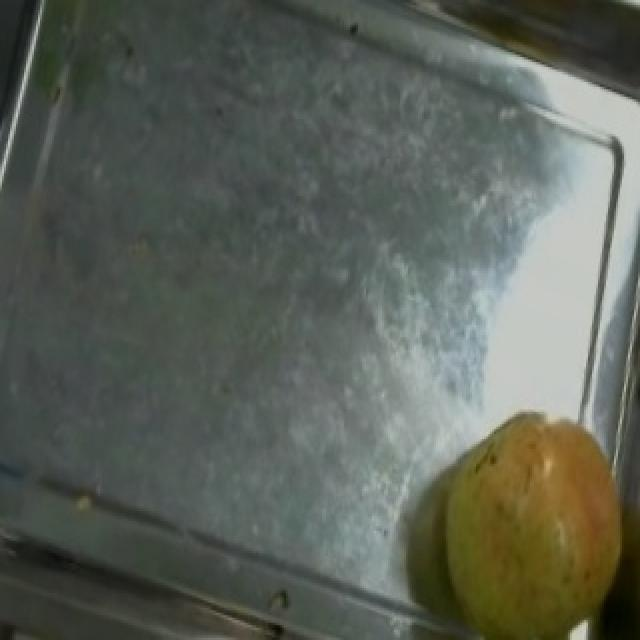fruit: (430, 384, 638, 640)
